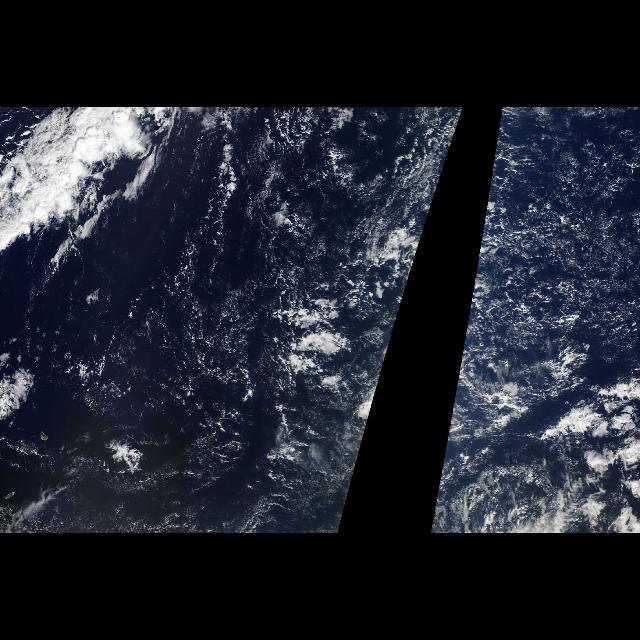Gravel: (480, 189, 638, 373), (292, 229, 394, 391)
Sugar: (473, 122, 639, 358), (84, 267, 272, 419)
